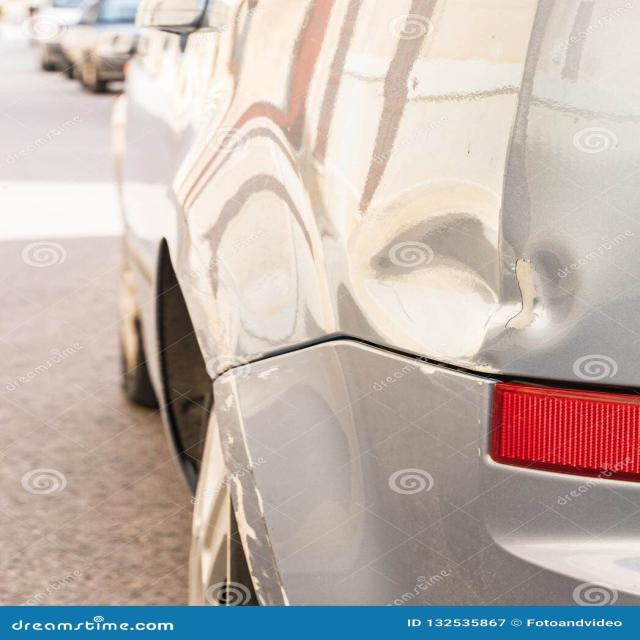dent: (328, 189, 579, 373)
misalignment: (253, 335, 640, 396)
scratch: (506, 257, 545, 333)
